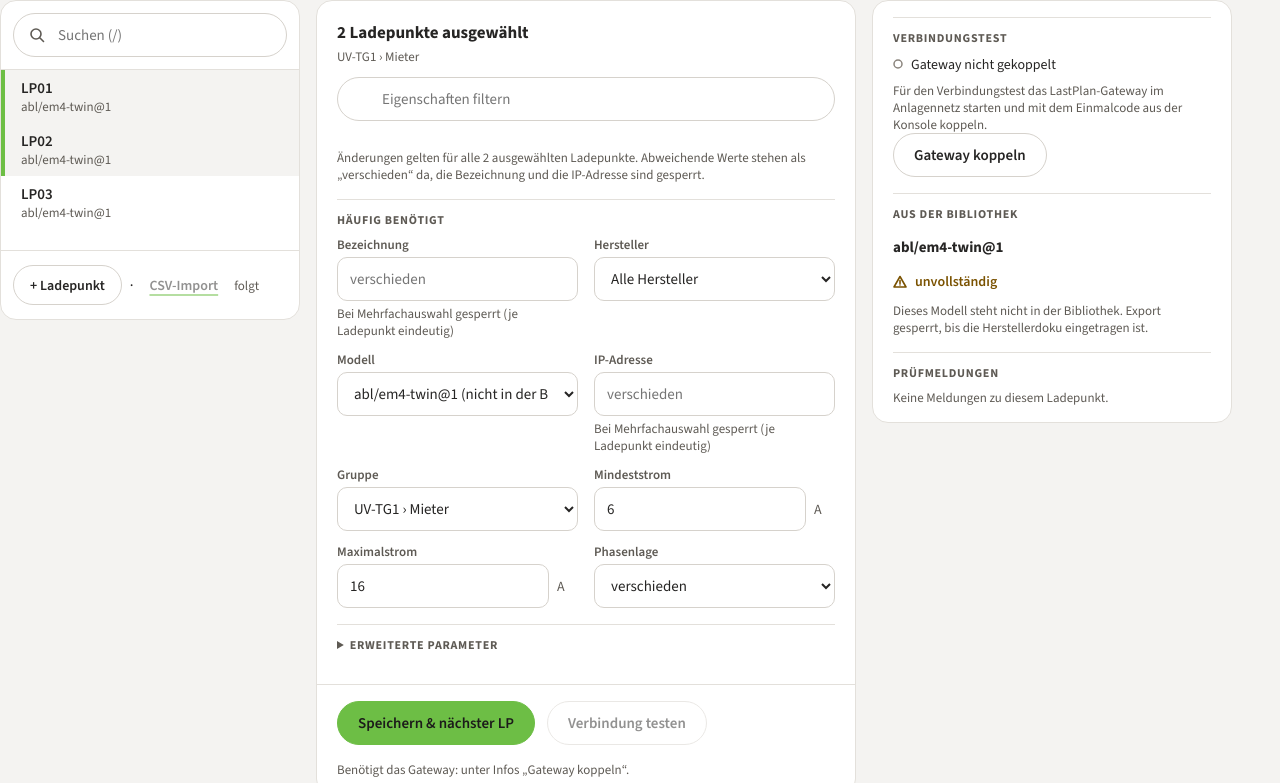
Test: Ladepunkte-Ansicht › Standardwerte aus der Bibliothek › Hersteller mit nur einem Modell: Modell gilt sofort, auch für mehrere Ladepunkte
Select "Test" in the dropdown labelled "Hersteller" at (714, 279), box [594, 257, 835, 301]
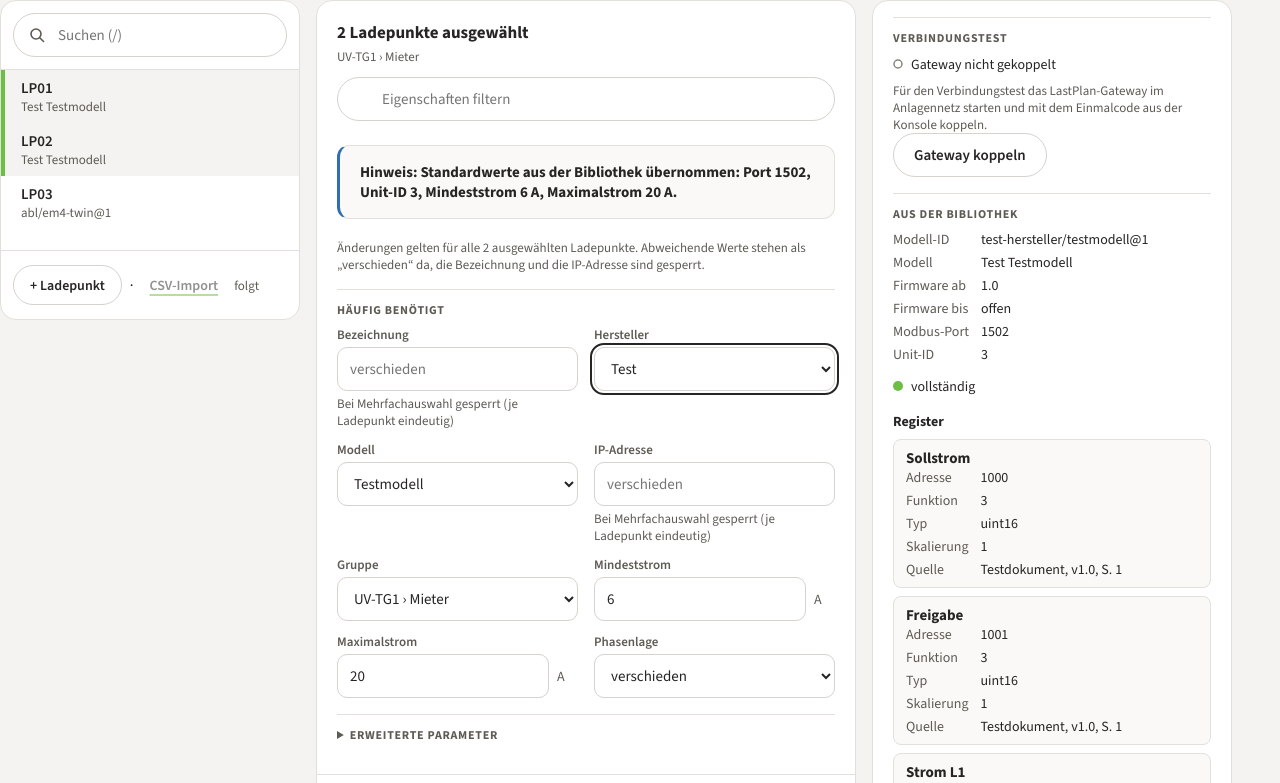
Result: the dropdown labelled "Modell" shows "Testmodell" at [337, 462, 578, 506]
